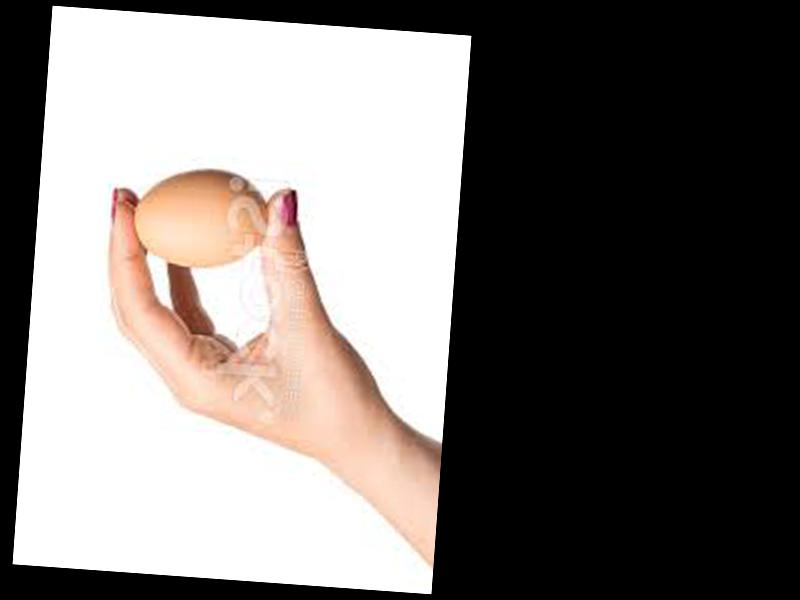Eggs: (131, 168, 271, 270)
